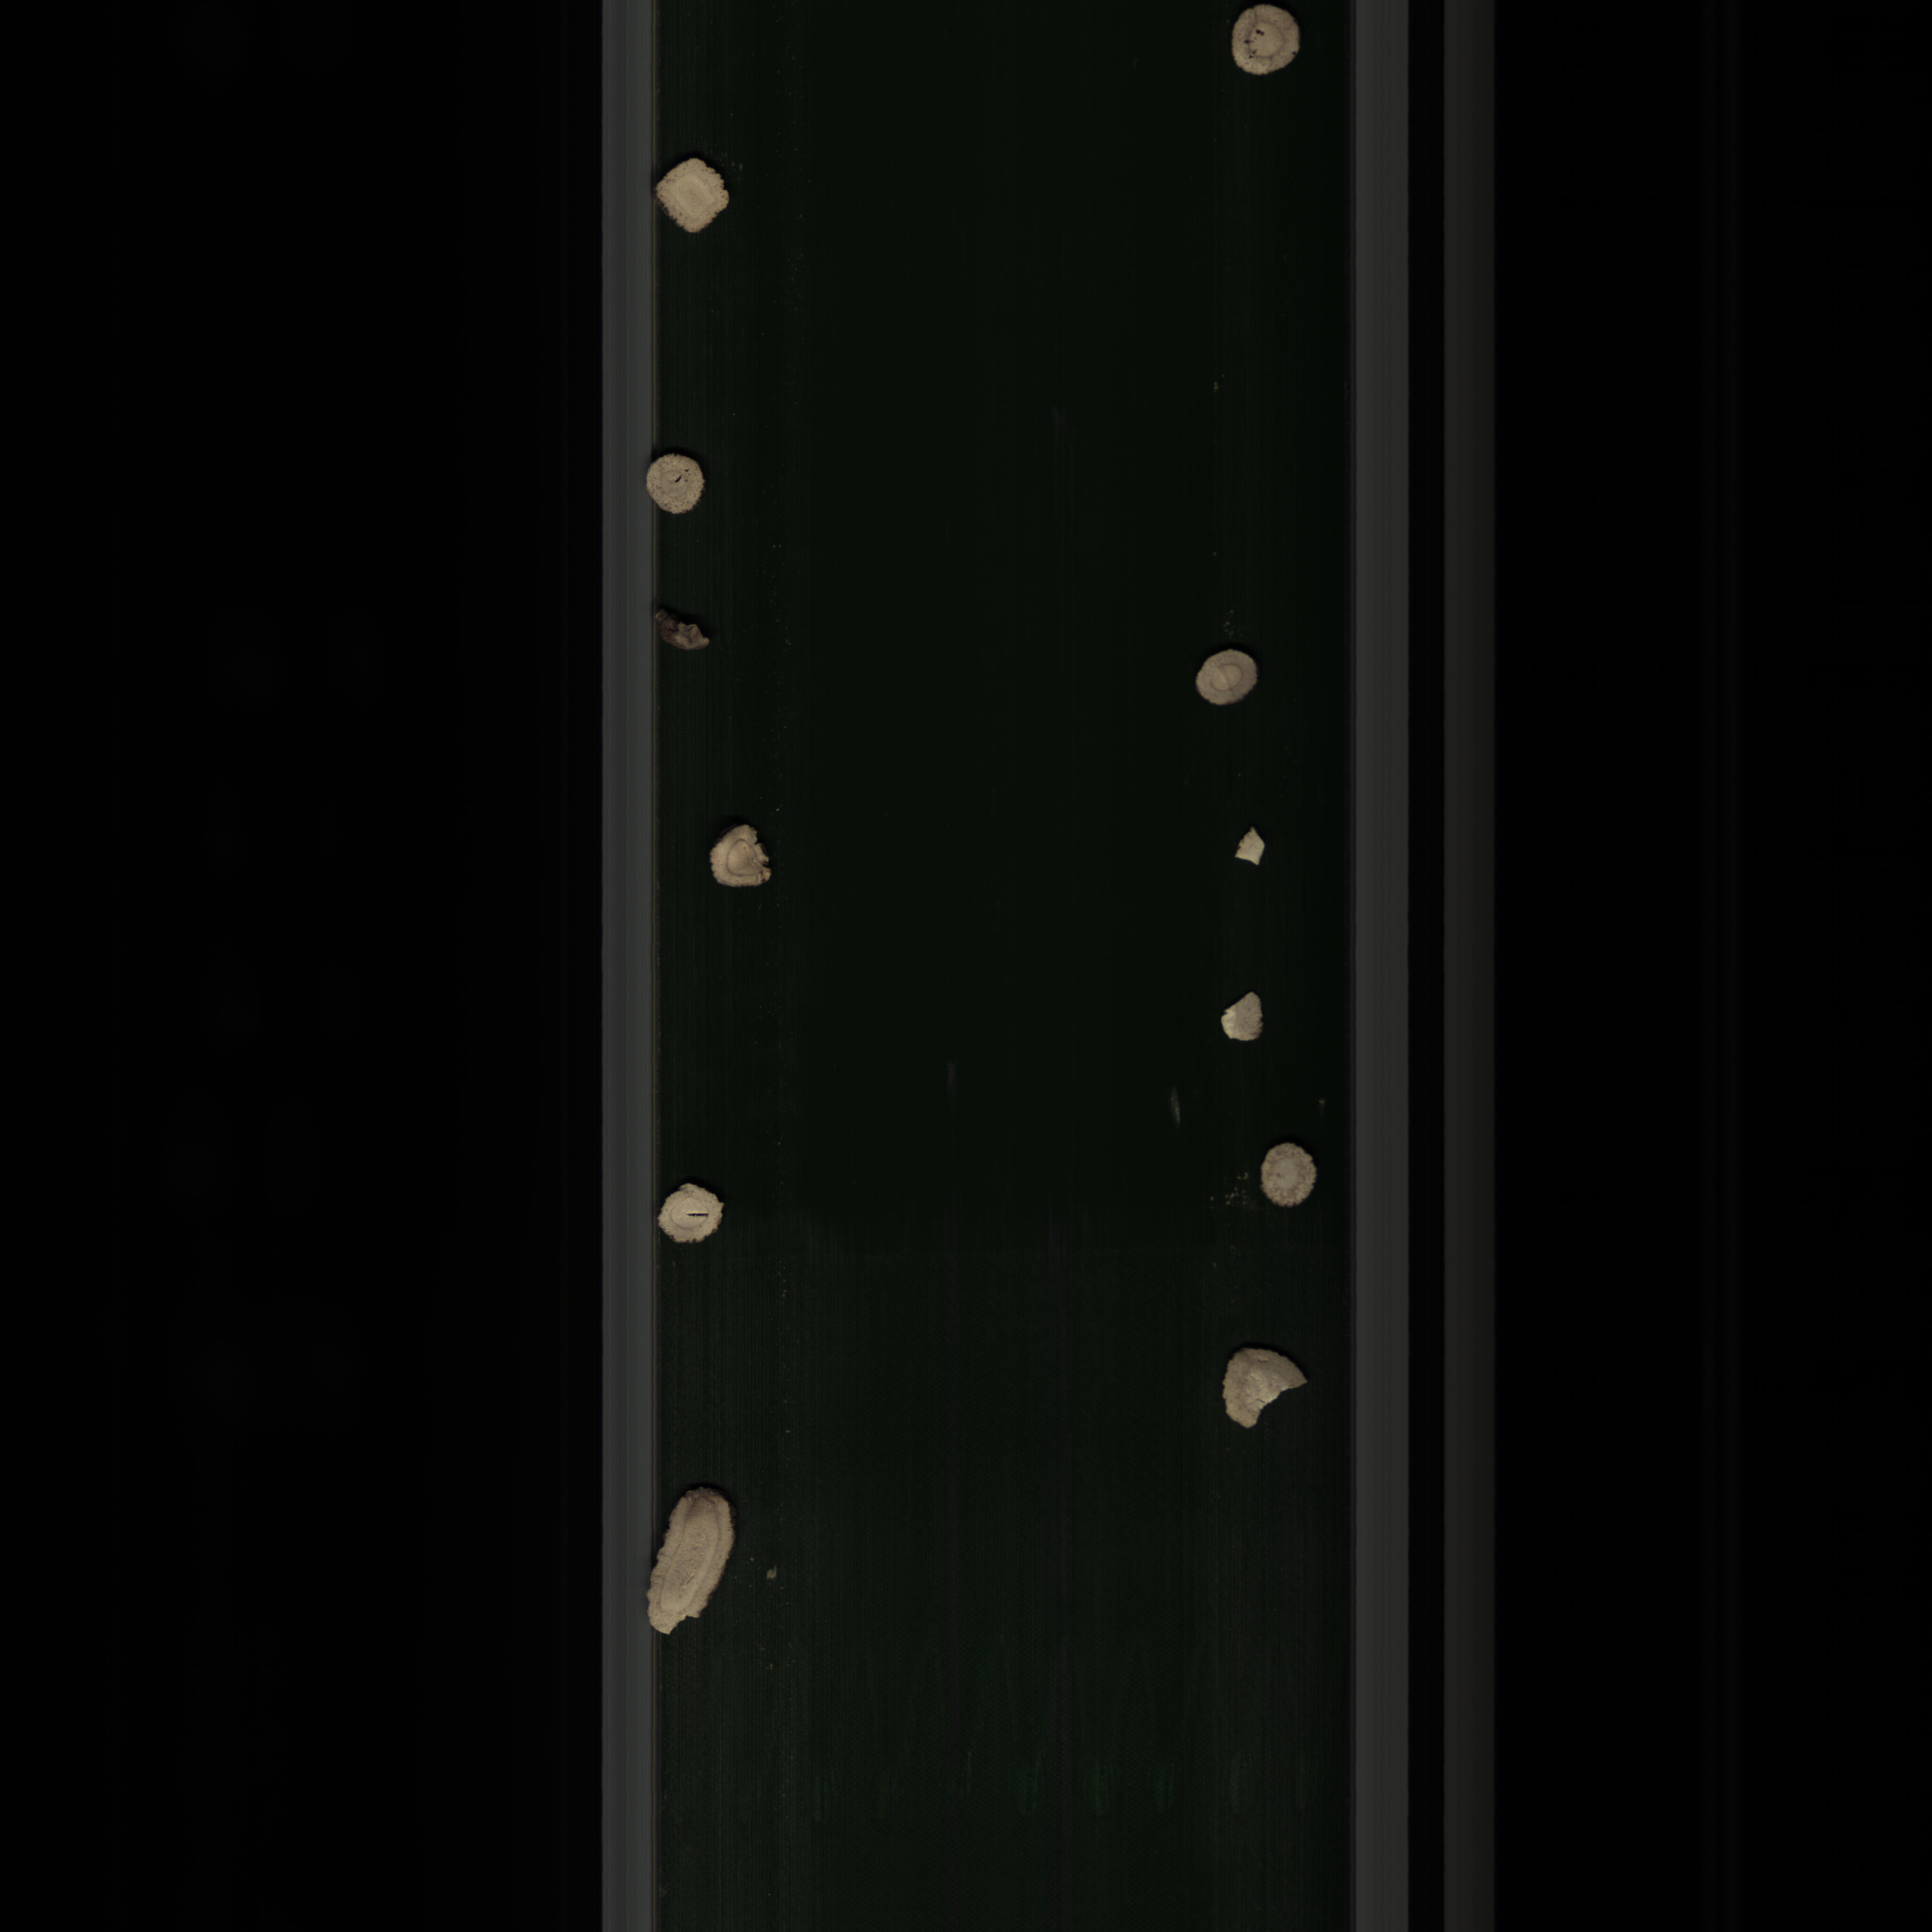bark: (649, 605, 717, 662)
debris: (1219, 1339, 1322, 1435), (1219, 989, 1274, 1053), (1233, 819, 1267, 872)
distortion: (640, 1470, 748, 1645)
hole: (1224, 0, 1307, 80), (658, 1173, 732, 1256), (642, 446, 704, 518)
moldy: (701, 819, 782, 893)
